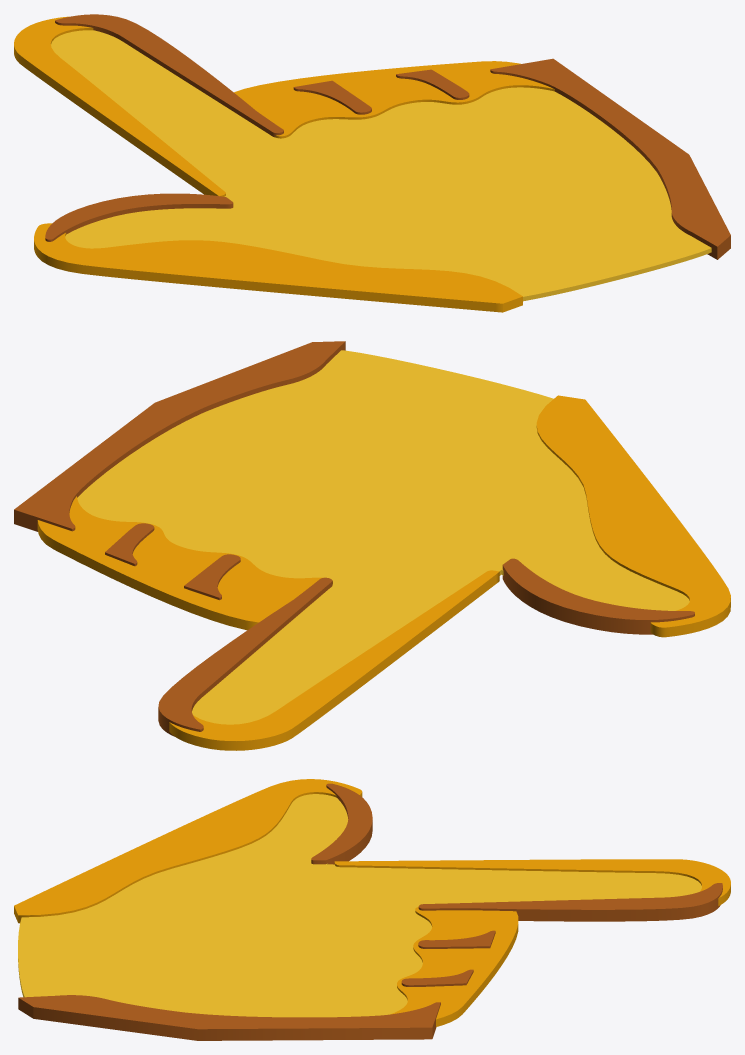
File: emoji_u1f446.glb
The picture shows the model from 3 angles, top to bottom: view 1: azimuth 30°, elevation 25°; view 2: azimuth 150°, elevation 25°; view 3: azimuth 270°, elevation 25°; orthographic projection. The views are drawn at different scales.
Visible parts, largest first — view 1: emoji_u1f446; view 2: emoji_u1f446; view 3: emoji_u1f446.
Part boxes in pixels (box(x1,y1,x2,y2)): emoji_u1f446: box(14, 14, 730, 312); emoji_u1f446: box(14, 341, 730, 750); emoji_u1f446: box(14, 779, 730, 1040).
Bounding box in the file's own units: 0.0276 × 0.0006 × 0.0331.
